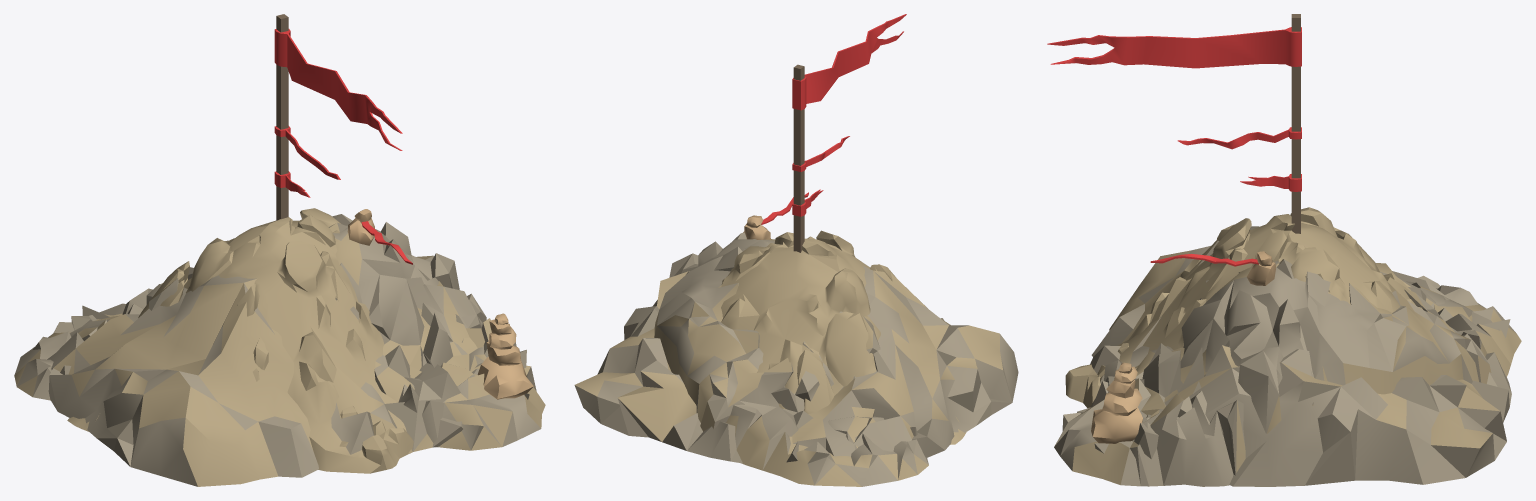
File: obo.glb
3 renders of one model, left to right at view 1: azimuth 30°, elevation 25°; view 2: azimuth 150°, elevation 25°; view 3: azimuth 270°, elevation 25°, orthographic. The views are drawn at different scales.
Visible parts, largest first — view 1: group3; view 2: group3; view 3: group3.
Part boxes in pixels (x1=…): group3: x1=14, y1=14, x2=545, y2=486; group3: x1=574, y1=14, x2=1018, y2=486; group3: x1=1047, y1=14, x2=1521, y2=486.
Bounding box in the file's own units: 14.74 × 13.6 × 15.38.
1 material, 1 textured.
